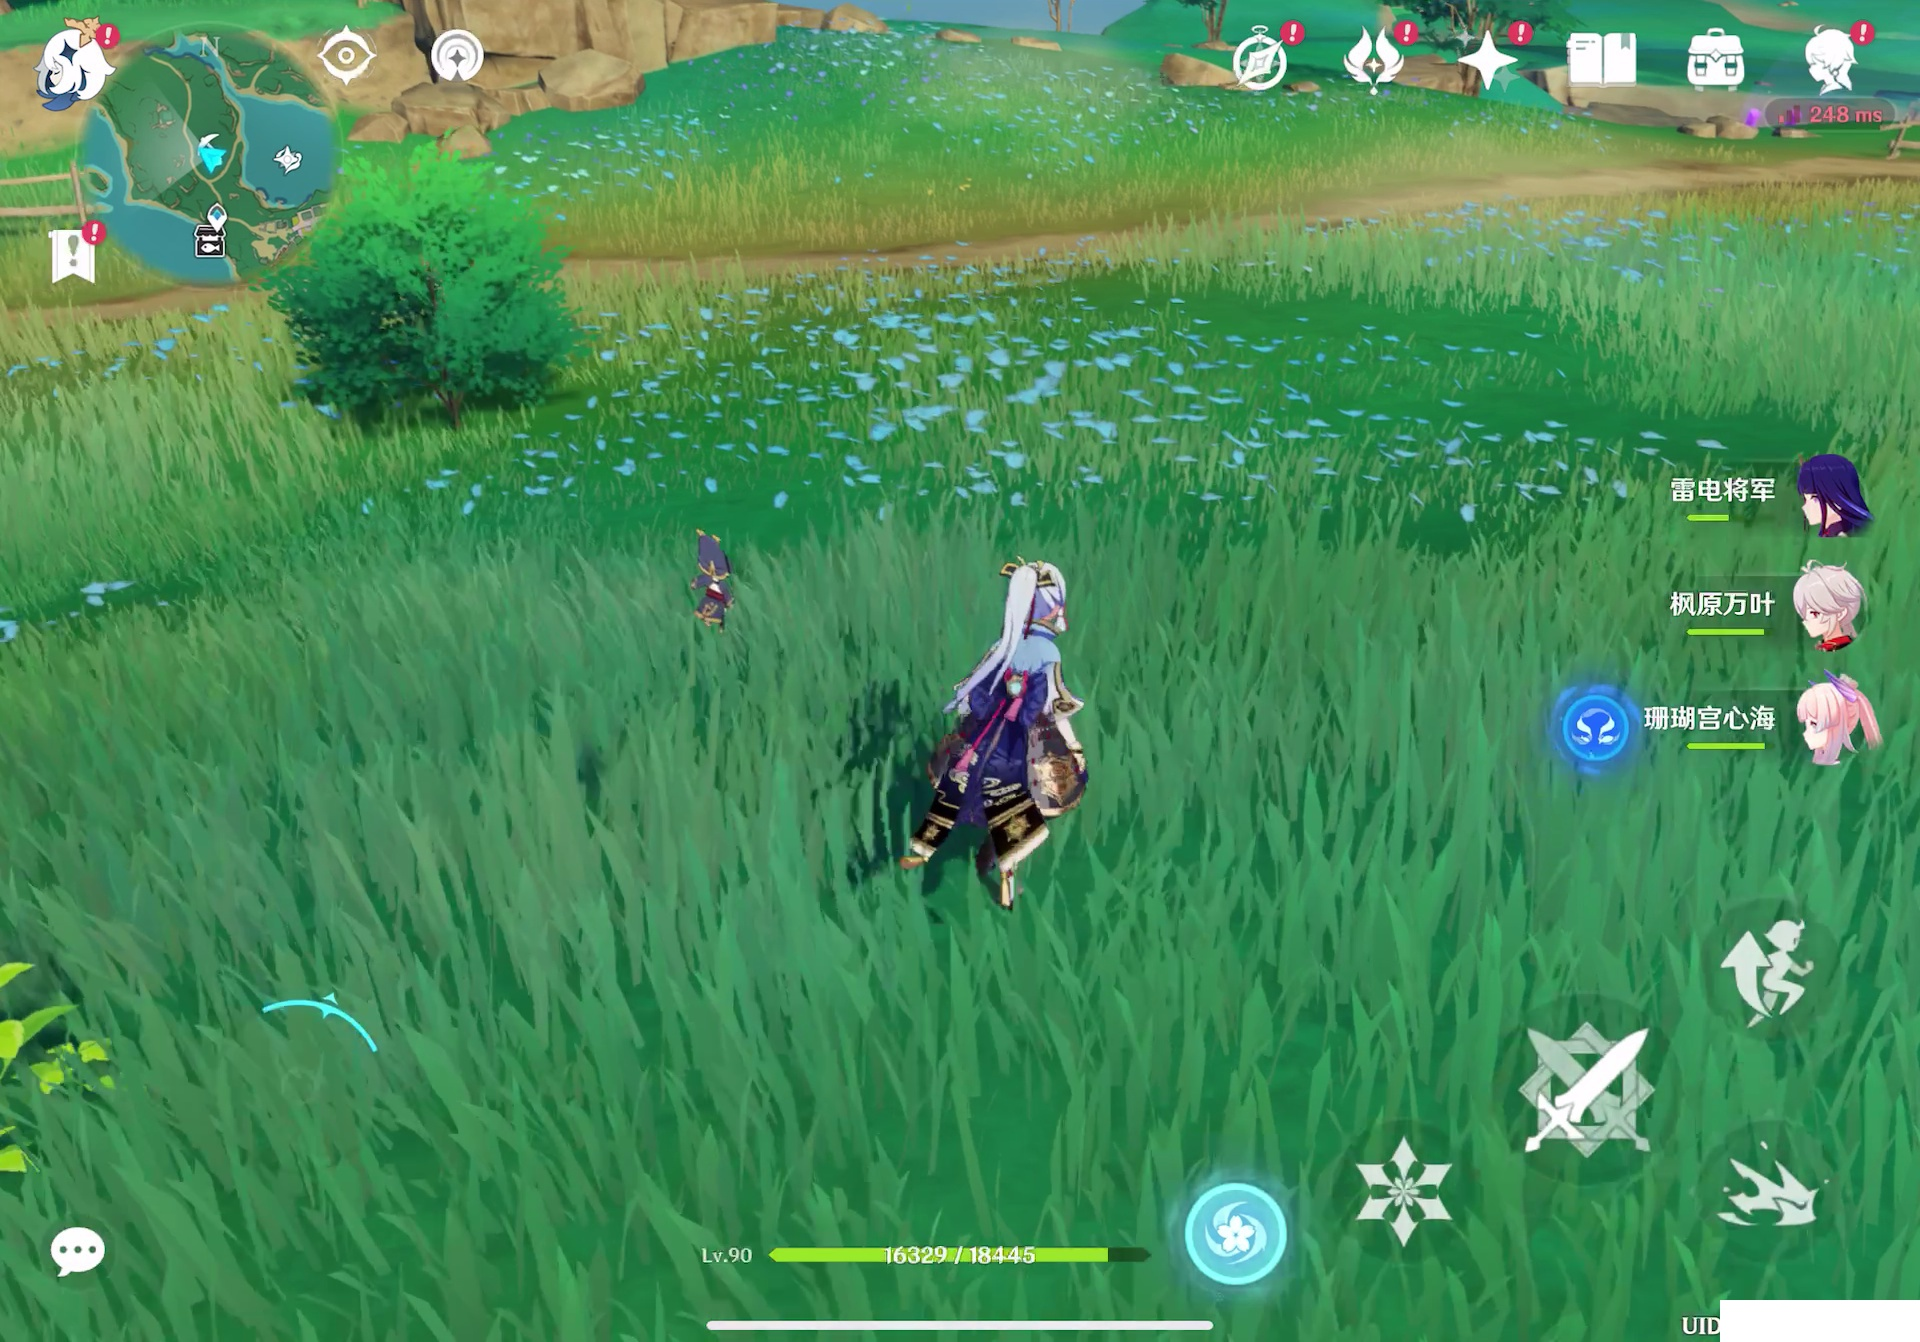神里绫龟: (890, 535, 1104, 932)
